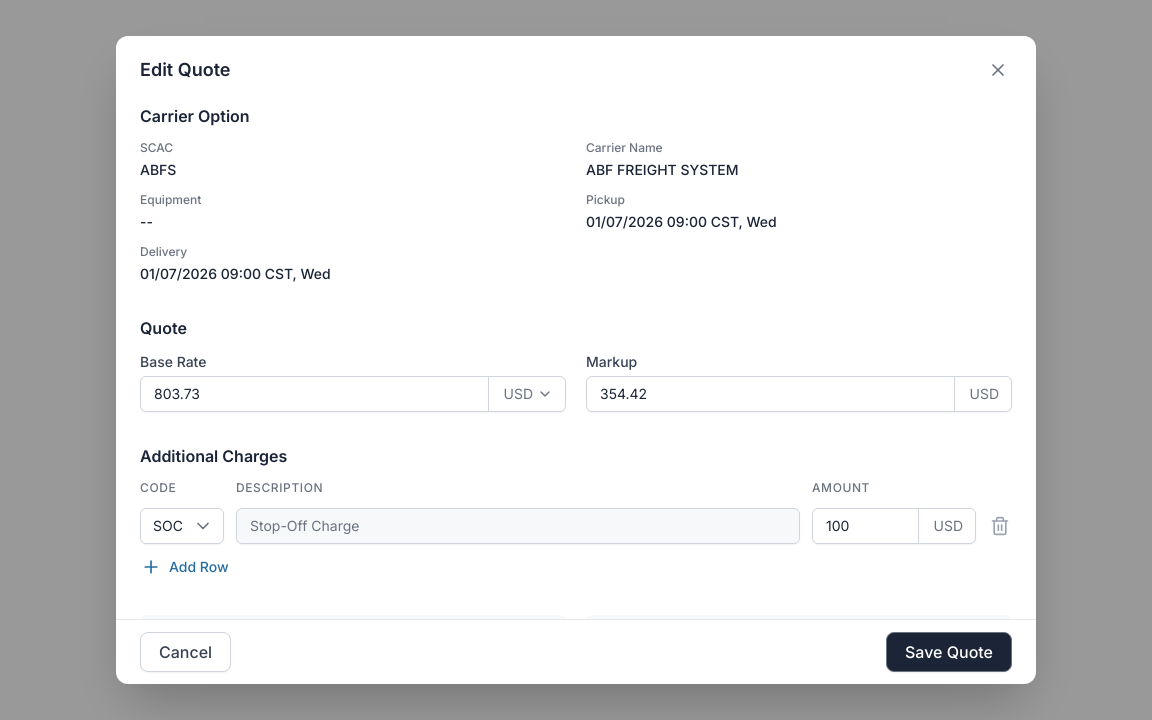
Test: QuoteModal › caps a pricing field at 6dp on blur without padding it
Replace the text in the field showing "803.73" below "Base Rate" with "900.5" at (315, 394), box [154,384,476,404]
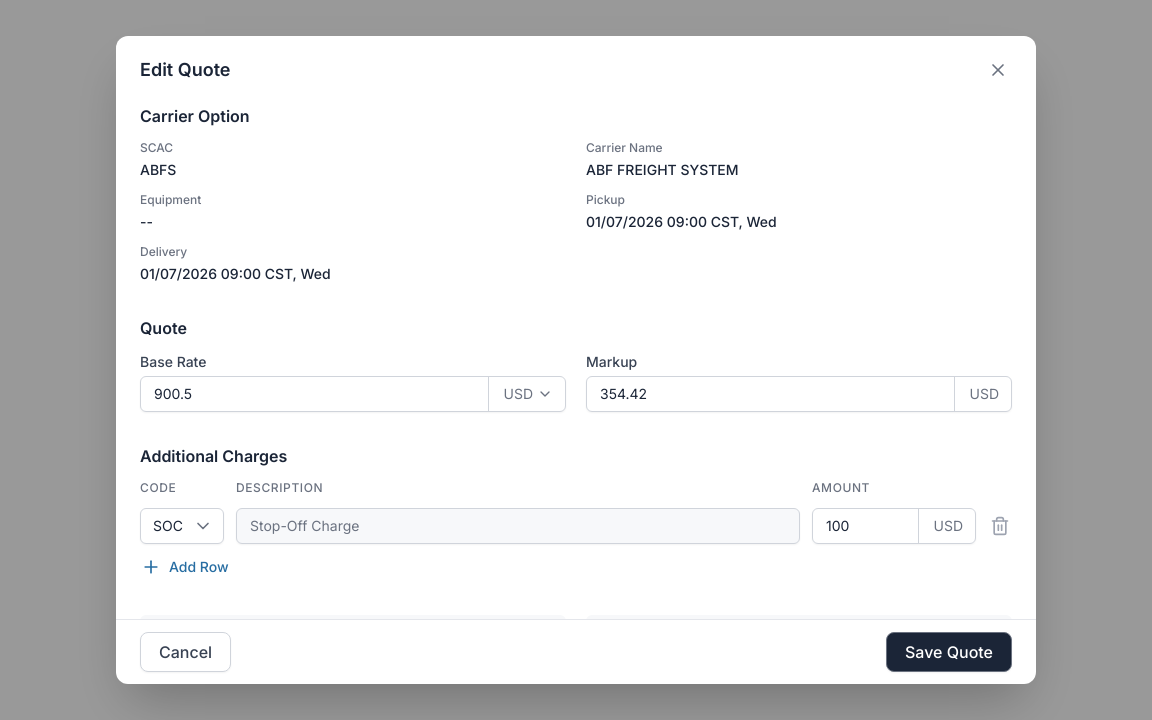
Leave the field showing "803.73" below "Base Rate", box [154,384,476,404]
// past the ceiling, it rounds
Replace the text in the field showing "803.73" below "Base Rate" with "1.23456789" at (315, 394), box [154,384,476,404]
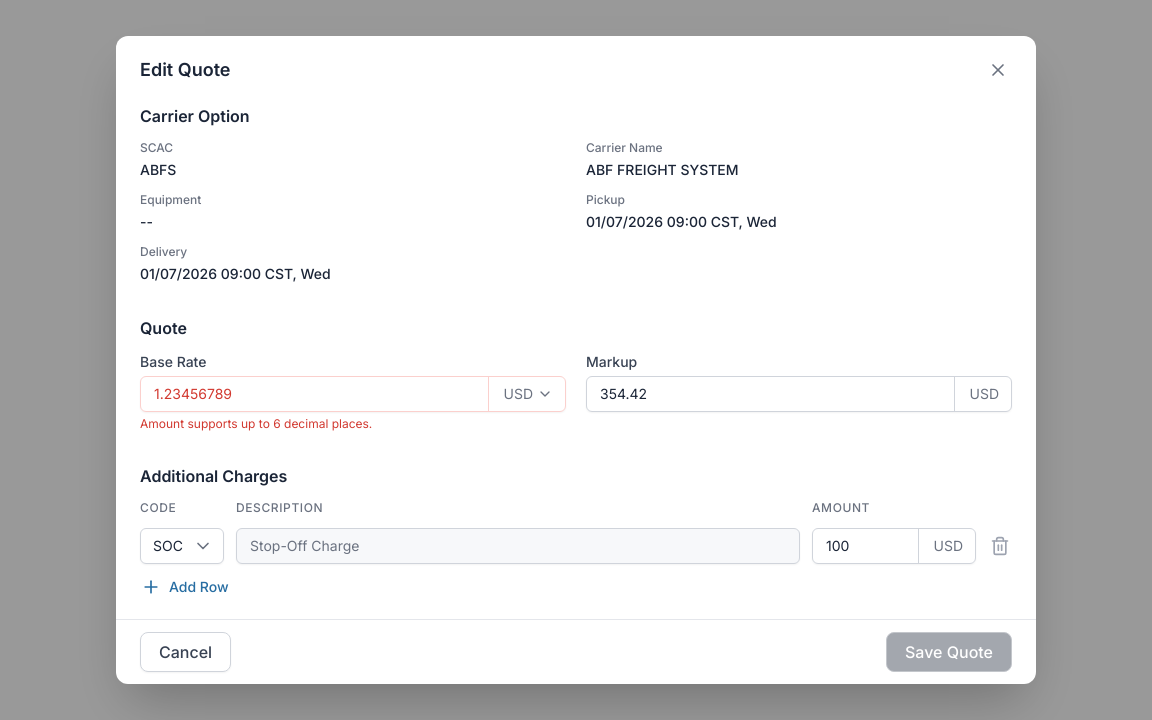
Leave the field showing "803.73" below "Base Rate", box [154,384,476,404]
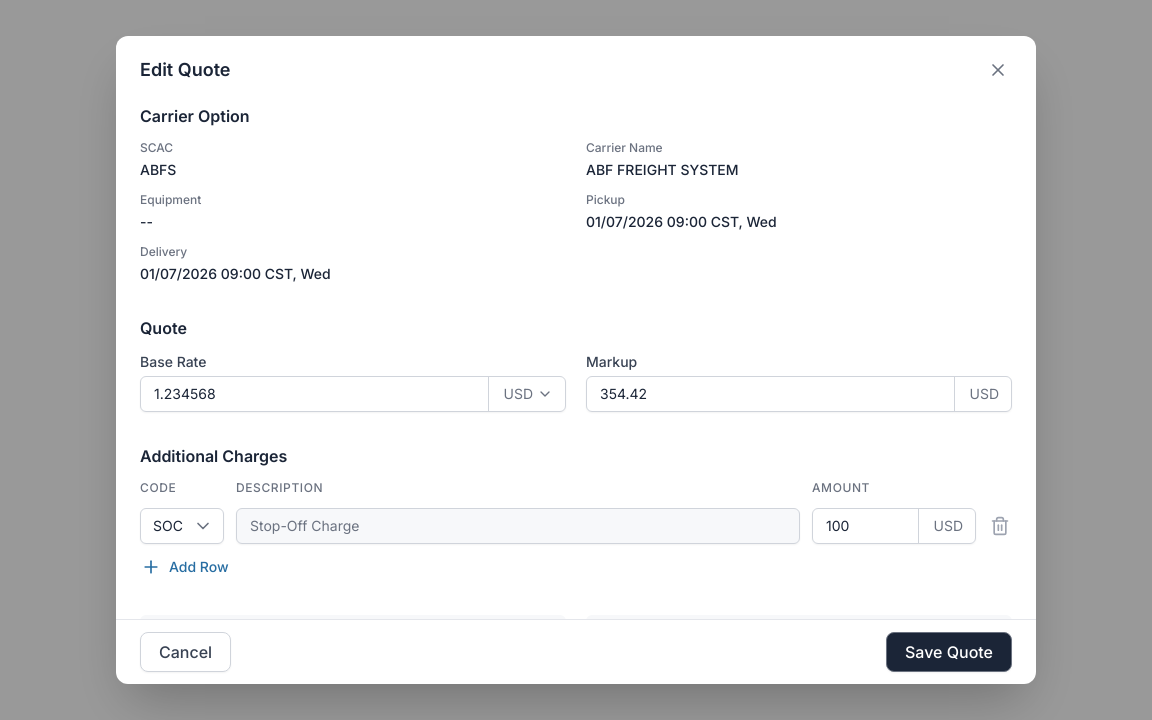
Check: the field showing "803.73" below "Base Rate" holds "1.234568", box [154,384,476,404]
